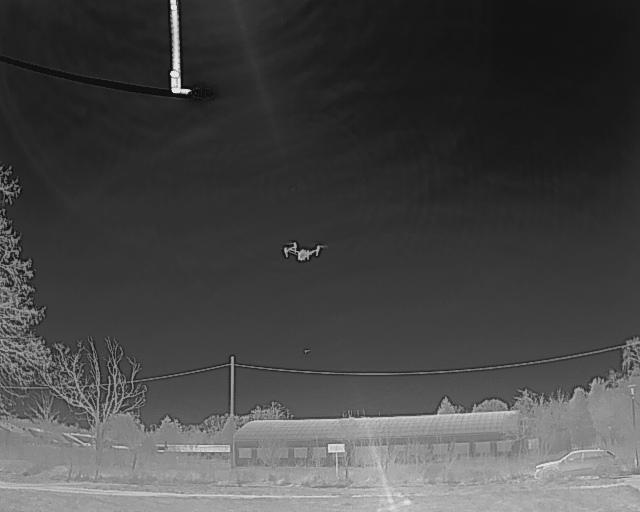drone: (278, 236, 328, 269)
